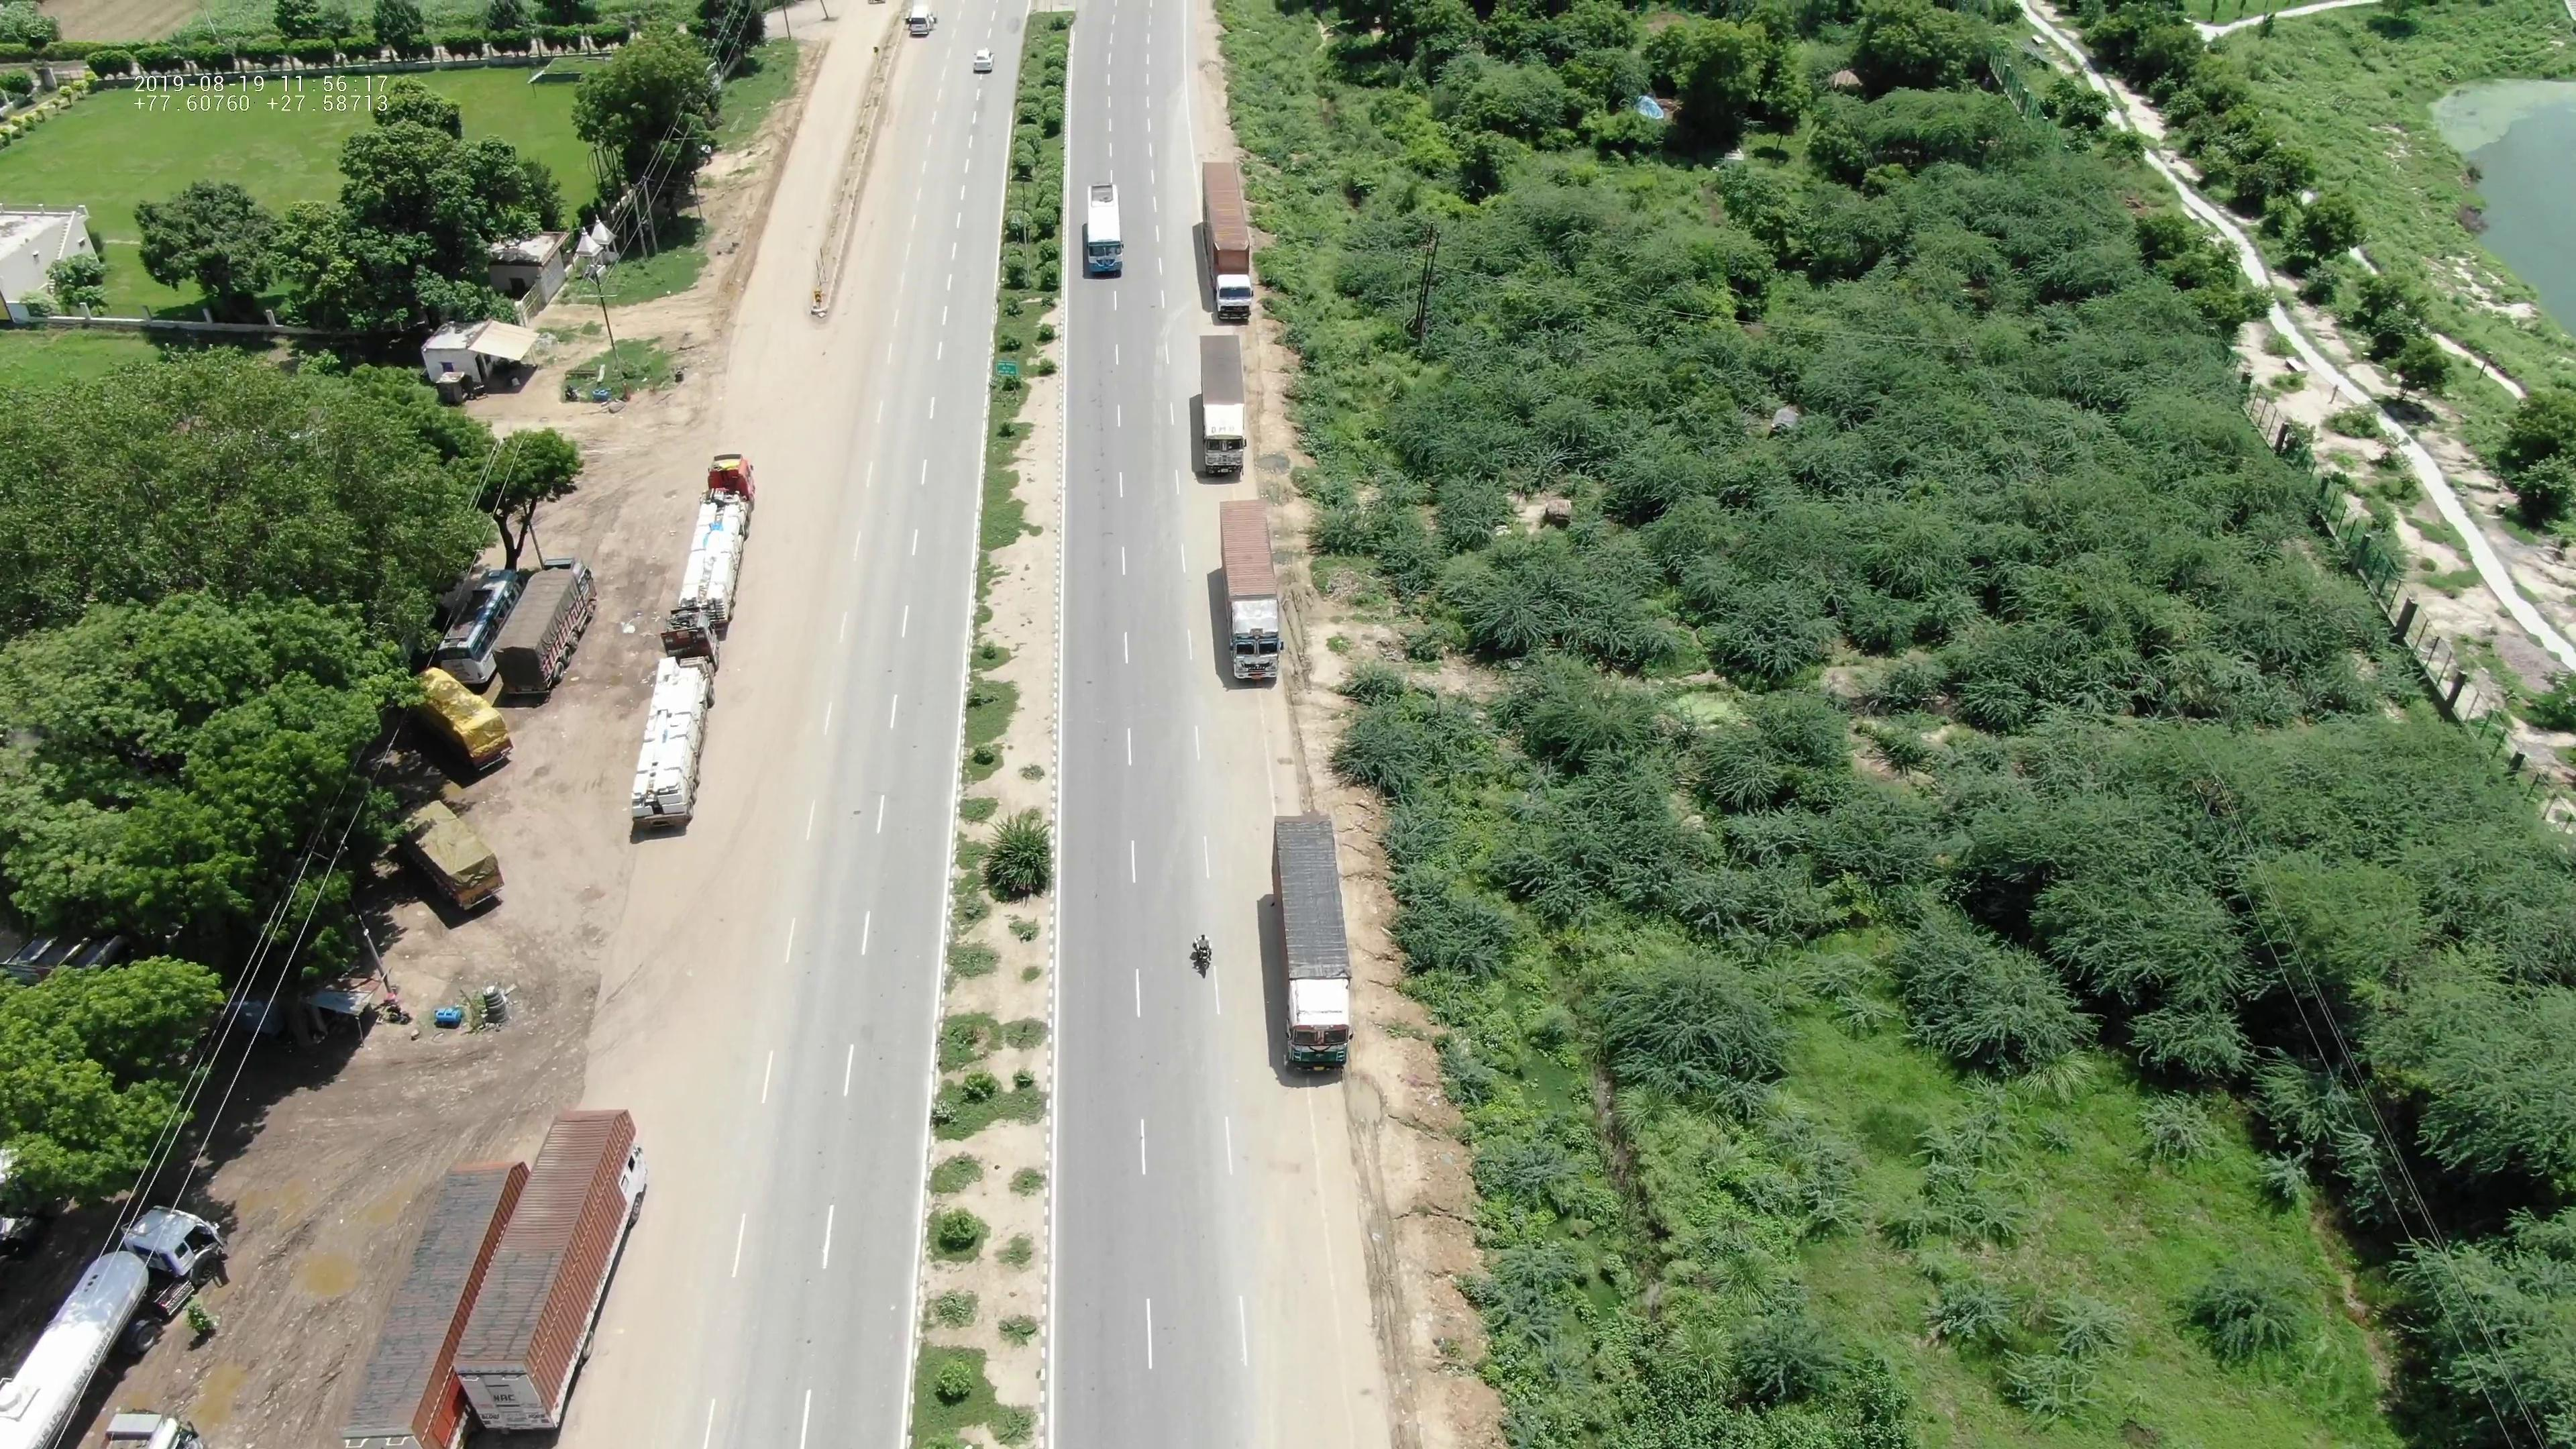Muddy_road: (614, 858, 789, 1097), (697, 563, 824, 816), (757, 326, 869, 506)
